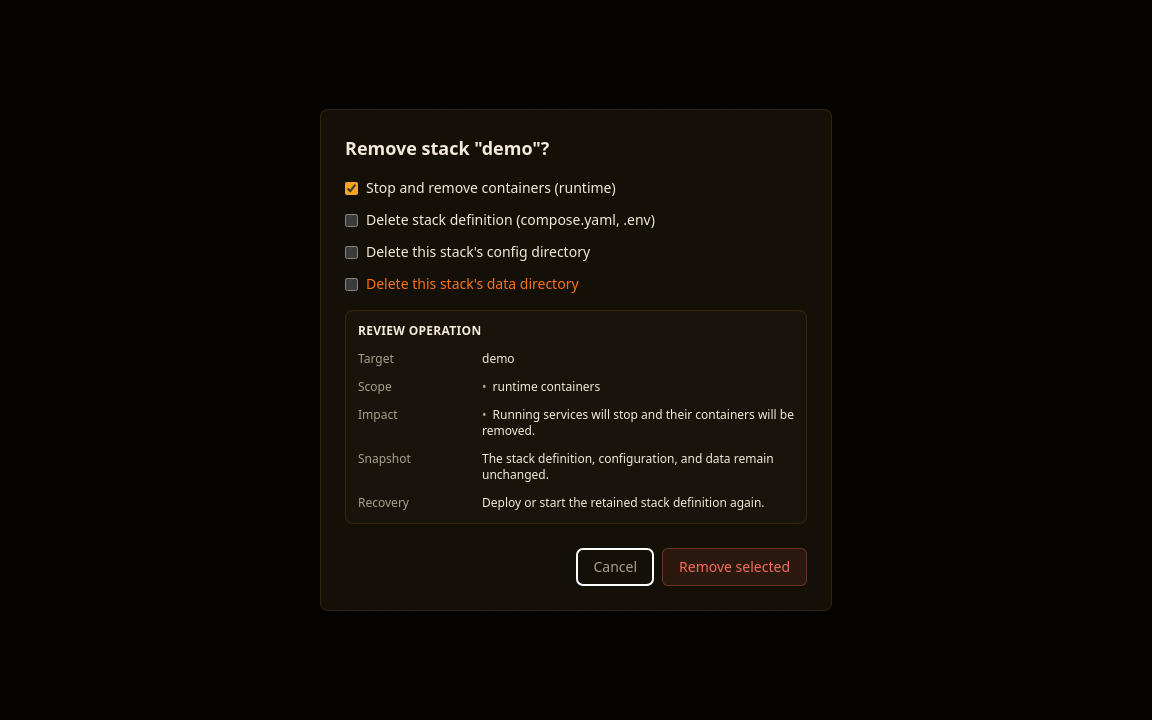
Scenario: DeleteStackDialog › shows data deletion warning when data checkbox is checked
The width and height of the screenshot is (1152, 720).
Click the checkbox labelled "Delete this stack's data directory" at (352,284), box [345, 278, 358, 290]
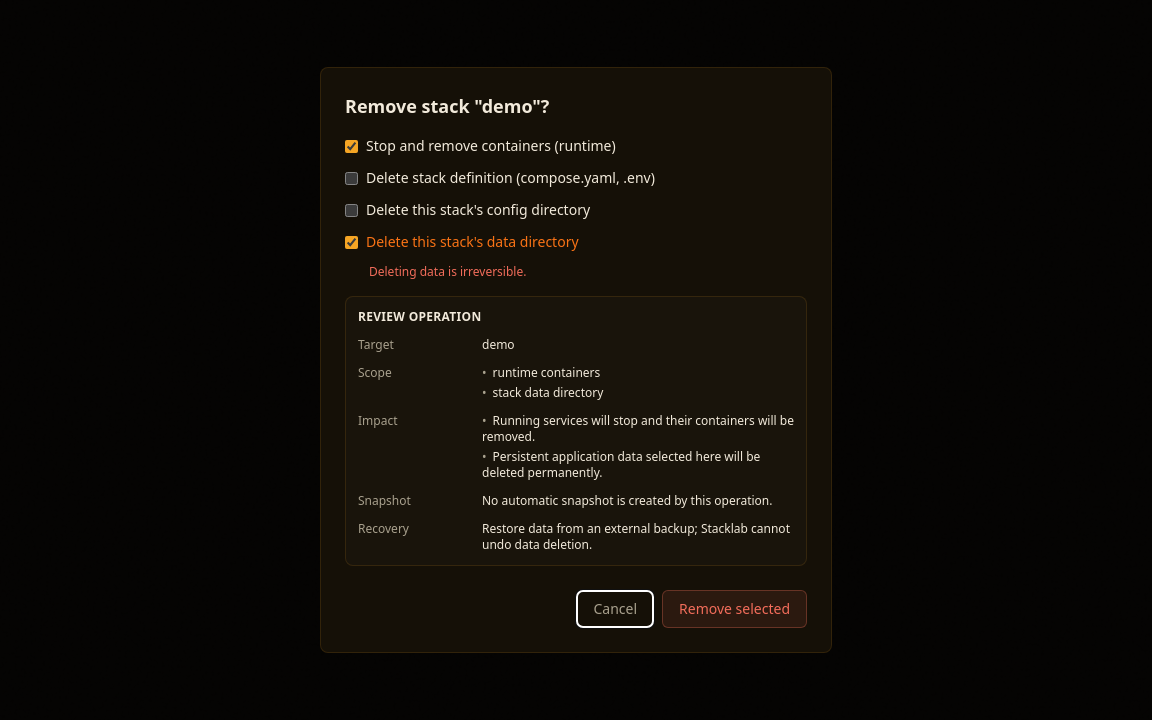
Check: the text "Deleting data is irreversible." is shown, box [369, 263, 526, 280]
